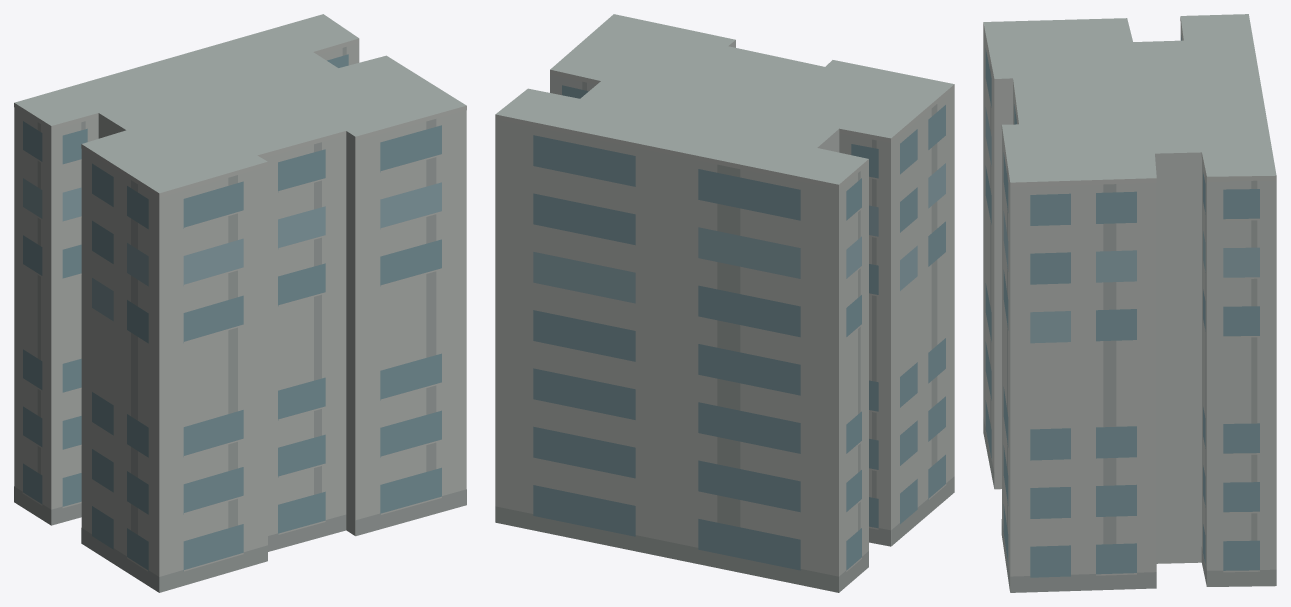
The model's file is survey-upis-32915032.glb.
The picture shows the model from 3 angles, left to right: view 1: azimuth 30°, elevation 25°; view 2: azimuth 150°, elevation 25°; view 3: azimuth 270°, elevation 25°; orthographic projection. The views are drawn at different scales.
Parts seen in each view (by area): view 1: survey-upis-32915032.tmp; view 2: survey-upis-32915032.tmp; view 3: survey-upis-32915032.tmp.
Part boxes in pixels (<box>): survey-upis-32915032.tmp: <box>14,14,466,592</box>; survey-upis-32915032.tmp: <box>495,14,954,592</box>; survey-upis-32915032.tmp: <box>983,14,1276,592</box>.
Bounding box in the file's own units: 18.74 × 21.25 × 13.78.
